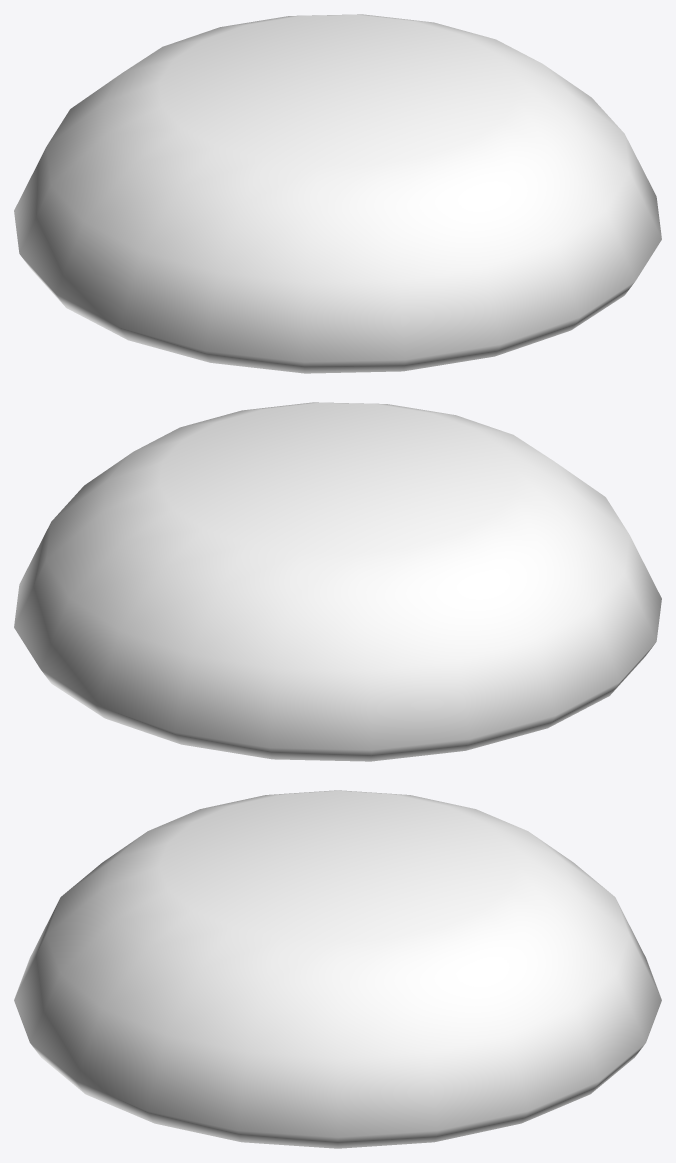
File: CeilingLight.fbx
The picture shows the model from 3 angles, top to bottom: view 1: azimuth 30°, elevation 25°; view 2: azimuth 150°, elevation 25°; view 3: azimuth 270°, elevation 25°; orthographic projection.
Visible parts, largest first — view 1: CeilingLight; view 2: CeilingLight; view 3: CeilingLight.
Part boxes in pixels (x1,y1,x2,y2): CeilingLight: (14, 14, 661, 373); CeilingLight: (14, 402, 661, 761); CeilingLight: (14, 790, 661, 1148).
Bounding box in the file's own units: 21.49 × 6.62 × 21.49.
Materials: 2 (2 with a texture image).
